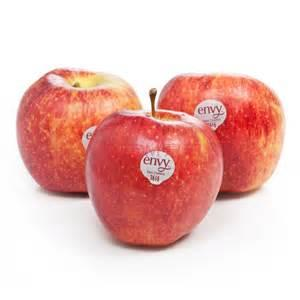apple: (12, 67, 138, 196), (144, 23, 274, 148)
